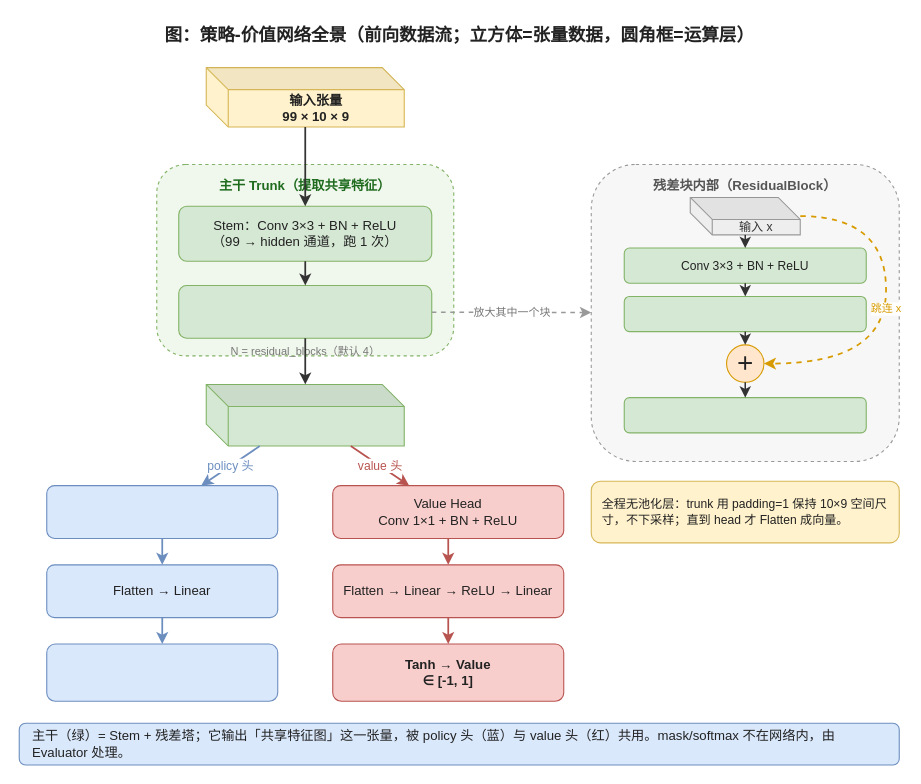
The diagram is 921 pixels wide and 784 high, and some of its shapes have lost their labels. The centre of each missing label's shape, as x and y in pixels:
"Conv 3×3 + BN" belongs at (x=744, y=313).
"Policy Head Conv 1×1 + BN + ReLU" belongs at (x=162, y=511).
"Policy logits（8100 维） 每个动作一个分值" belongs at (x=162, y=672).
"ReLU → 块输出" belongs at (x=744, y=415).
"共享特征图（张量） hidden × 10 × 9" belongs at (x=304, y=414).
"残差塔：N × ResidualBlock" belongs at (x=305, y=311).
